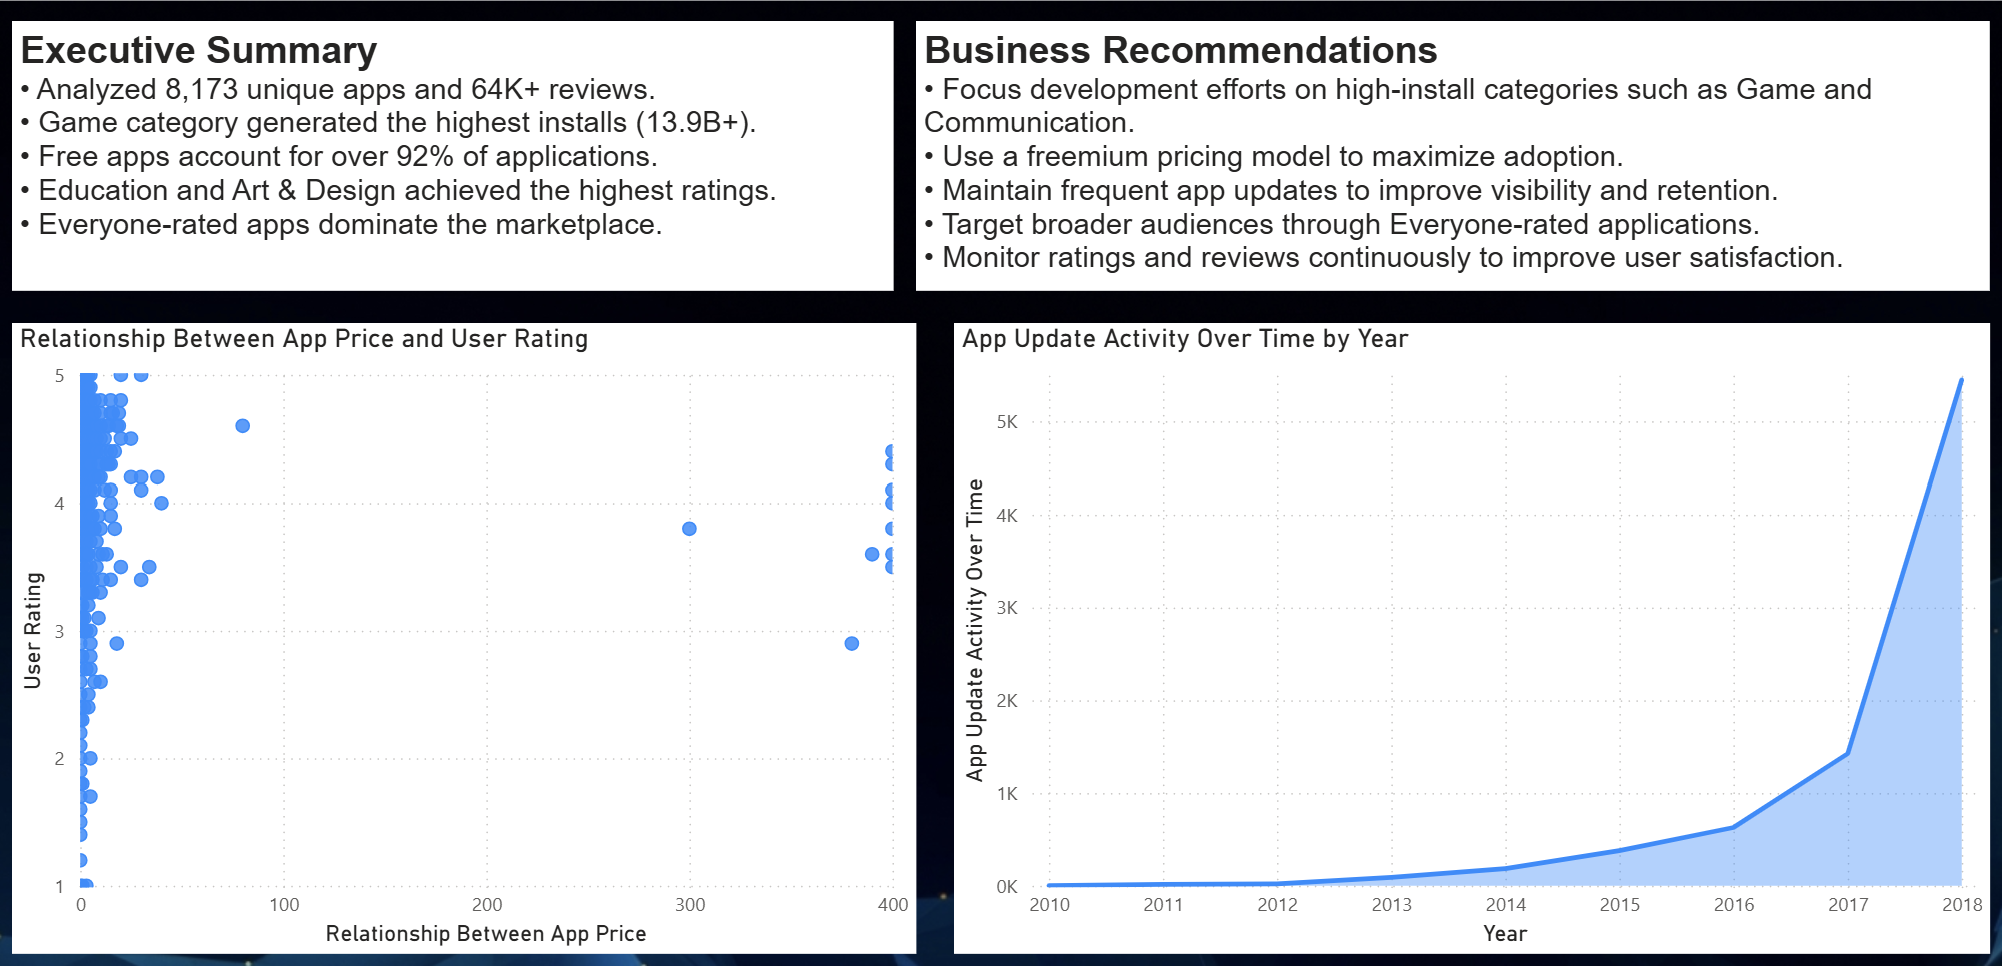

The page's visual inventory and layout, read from the dashboard file:
{"tool":"powerbi","page":{"name":"Page 2","canvas":[1280,720],"ordinal":1},"visuals":[{"type":"textbox","box":[10.2,104.5,562.2,172.1],"z":0},{"type":"textbox","box":[586.5,104.5,684.6,172.1],"z":1},{"type":"scatterChart","fields":{"X":["googleplaystore_cleaned.Price"],"Y":["googleplaystore_cleaned.Rating"]},"box":[10.2,297.1,576.3,401.6],"z":2},{"type":"stackedAreaChart","fields":{"Category":["googleplaystore_cleaned.Last Updated.Variation.Date Hierarchy.Year"],"Y":["CountNonNull(googleplaystore_cleaned.App)"]},"box":[610.7,297.1,660.4,401.6],"z":3}]}

Visuals, with their boxes on the page's 1280x720 design canvas (x1, y1, x2, y2). These are canvas units, not pixel positions in the 2002x966 screenshot, which may show the page scaled, cropped or inside an application window:
textbox: 10/104/572/277
textbox: 586/104/1271/277
scatterChart - googleplaystore_cleaned.Price x googleplaystore_cleaned.Rating: 10/297/586/699
stackedAreaChart - googleplaystore_cleaned.Last Updated.Variation.Date Hierarchy.Year x CountNonNull(googleplaystore_cleaned.App): 611/297/1271/699
